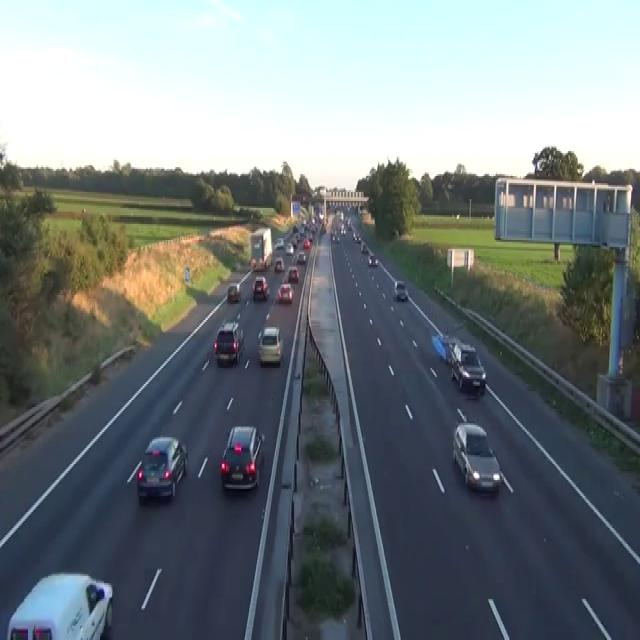Car: (6, 571, 113, 638), (452, 420, 501, 492), (136, 436, 187, 503), (220, 425, 265, 491), (450, 341, 486, 395), (213, 320, 244, 364), (438, 322, 465, 362), (257, 326, 283, 364), (448, 340, 476, 366), (437, 332, 454, 362), (445, 338, 461, 364), (252, 276, 269, 300), (393, 279, 408, 301), (277, 283, 293, 302), (227, 283, 240, 302), (287, 265, 299, 283), (251, 256, 265, 270), (274, 256, 284, 272), (274, 236, 284, 249), (368, 252, 377, 266), (296, 251, 306, 263), (281, 270, 289, 283), (331, 231, 340, 242), (285, 242, 293, 254), (353, 231, 361, 242), (303, 238, 311, 249), (361, 240, 368, 252), (292, 233, 299, 245), (336, 210, 344, 220), (339, 224, 346, 235), (251, 258, 256, 270), (346, 217, 351, 229), (328, 202, 335, 210), (321, 222, 326, 233), (318, 212, 324, 220), (292, 224, 297, 233)
Truck: (249, 226, 272, 270), (290, 201, 300, 219)
